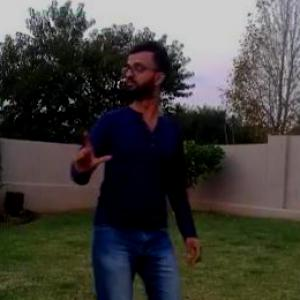land_hand: (62, 129, 112, 181)
